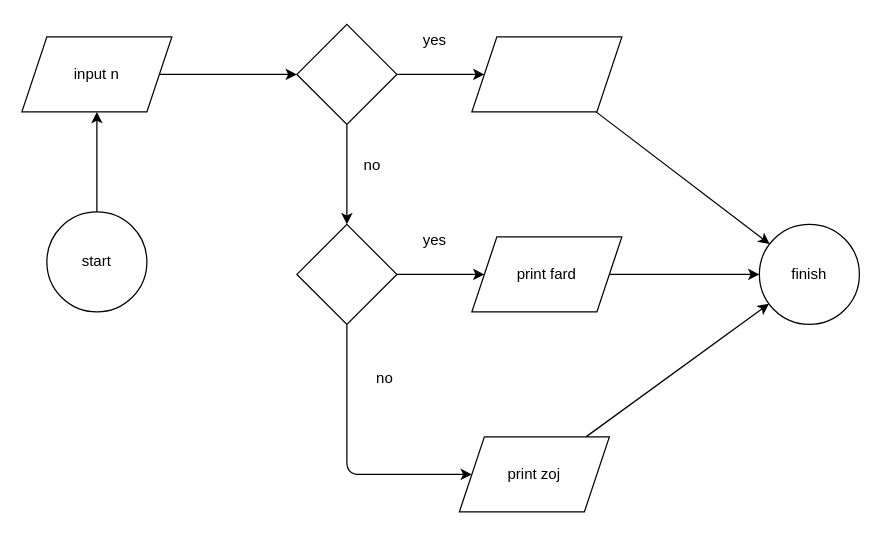
Some shapes in this 881 by 534 pixel diagram are drawn without their labels. The shapes that lost their labels are listed below. From the top down, each one's centre as x and y in pixels, then its label:
(x=346, y=73): n = 0
(x=546, y=74): print zero
(x=346, y=273): n % 2 = 1
